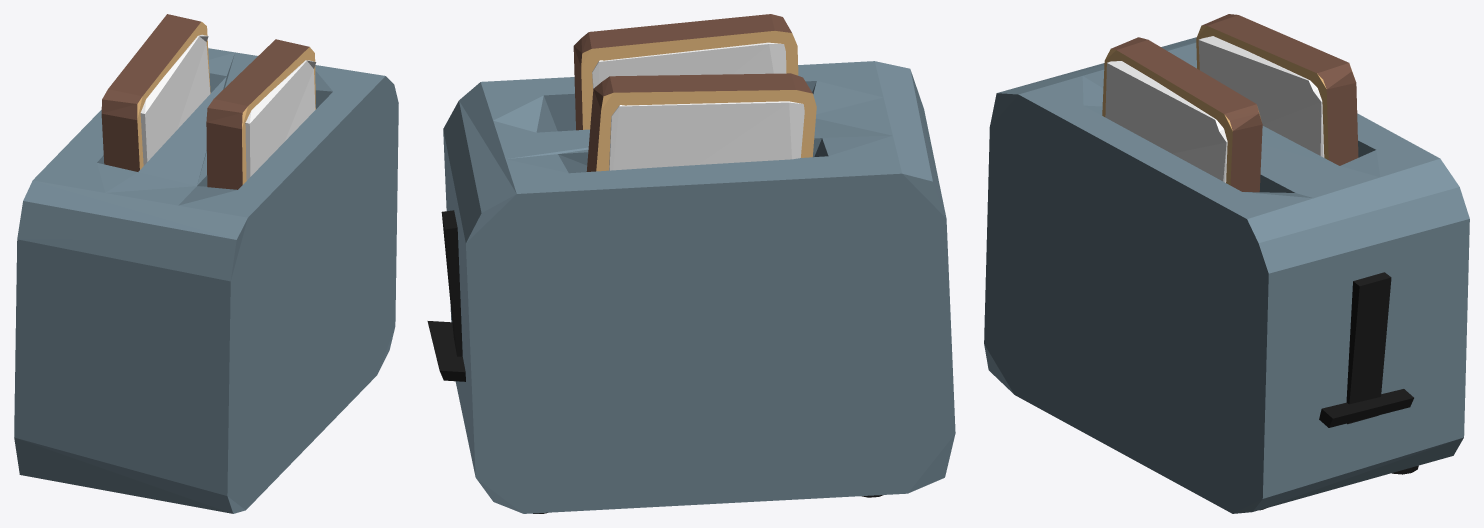
The model's file is 烤面包机_247.glb.
The picture shows the model from 3 angles, left to right: view 1: azimuth 30°, elevation 25°; view 2: azimuth 150°, elevation 25°; view 3: azimuth 270°, elevation 25°; orthographic projection. The views are drawn at different scales.
Visible parts, largest first — view 1: Node; view 2: Node; view 3: Node.
Part boxes in pixels (x1=…): Node: x1=14, y1=14, x2=398, y2=513; Node: x1=427, y1=14, x2=955, y2=513; Node: x1=984, y1=14, x2=1469, y2=513.
Bounding box in the file's own units: 0.6819 × 0.5636 × 0.6488.
